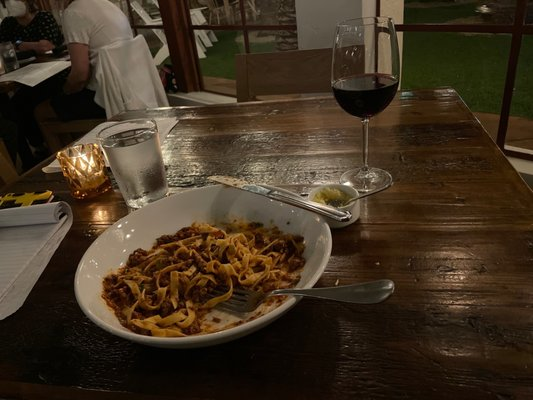salad: (212, 279, 395, 319)
sushi: (74, 182, 332, 350)
